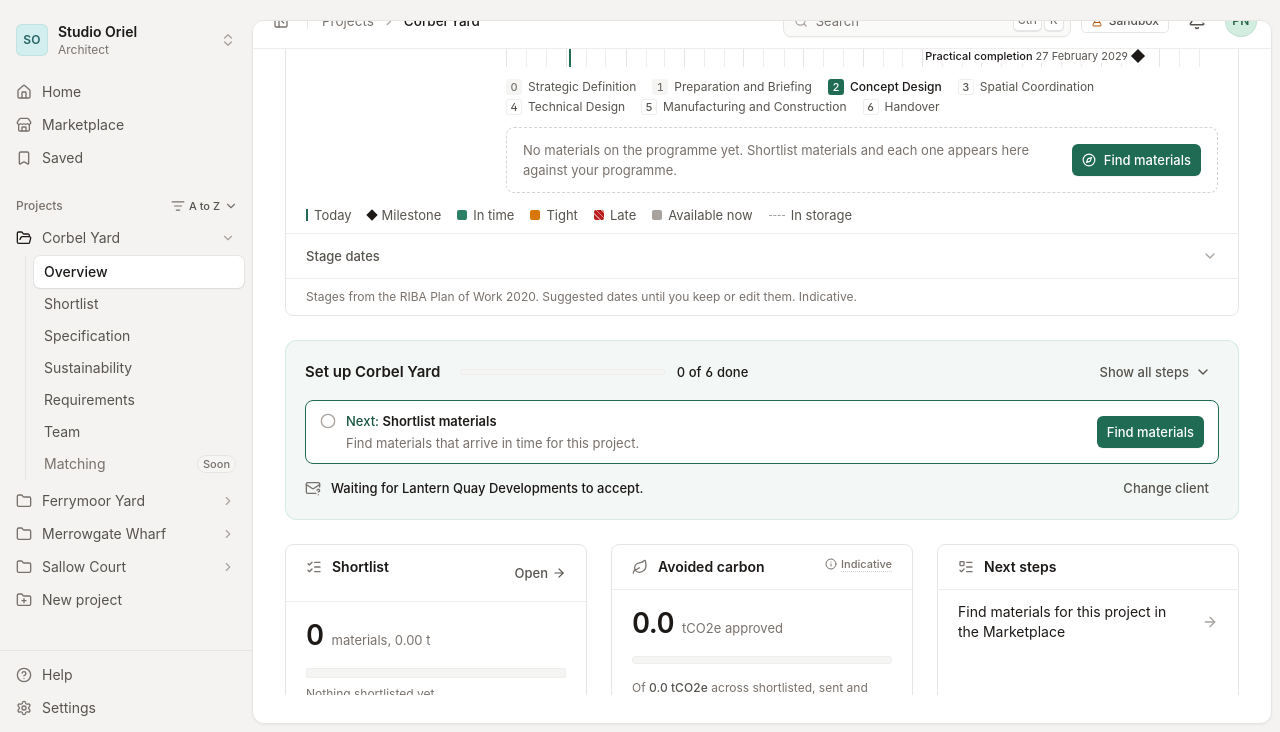
a new project › keeps the checklist compact, with the waiting client folded in, and opens every step on request
This screenshot has width=1280, height=732.
(page scrolled)
Expected: the element showing "Waiting for Lantern Quay Developments to accept." is shown, [305,480,644,496]
Press the mouse on the button "Show all steps" at (1155, 372), box [1092,350,1219,394]
Press the mouse on the button "Show all steps" at (1155, 372), box [1092,350,1219,394]
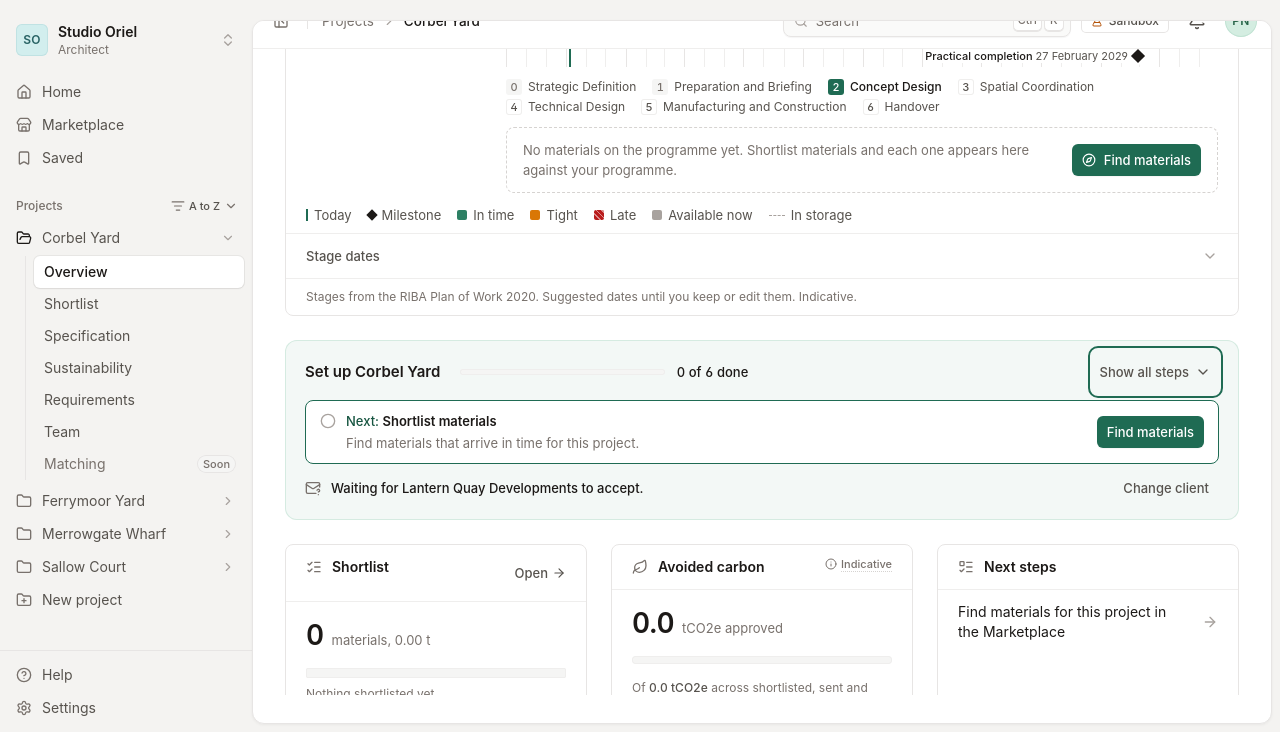
Click the button "Show all steps" at (1155, 372), box [1092,350,1219,394]
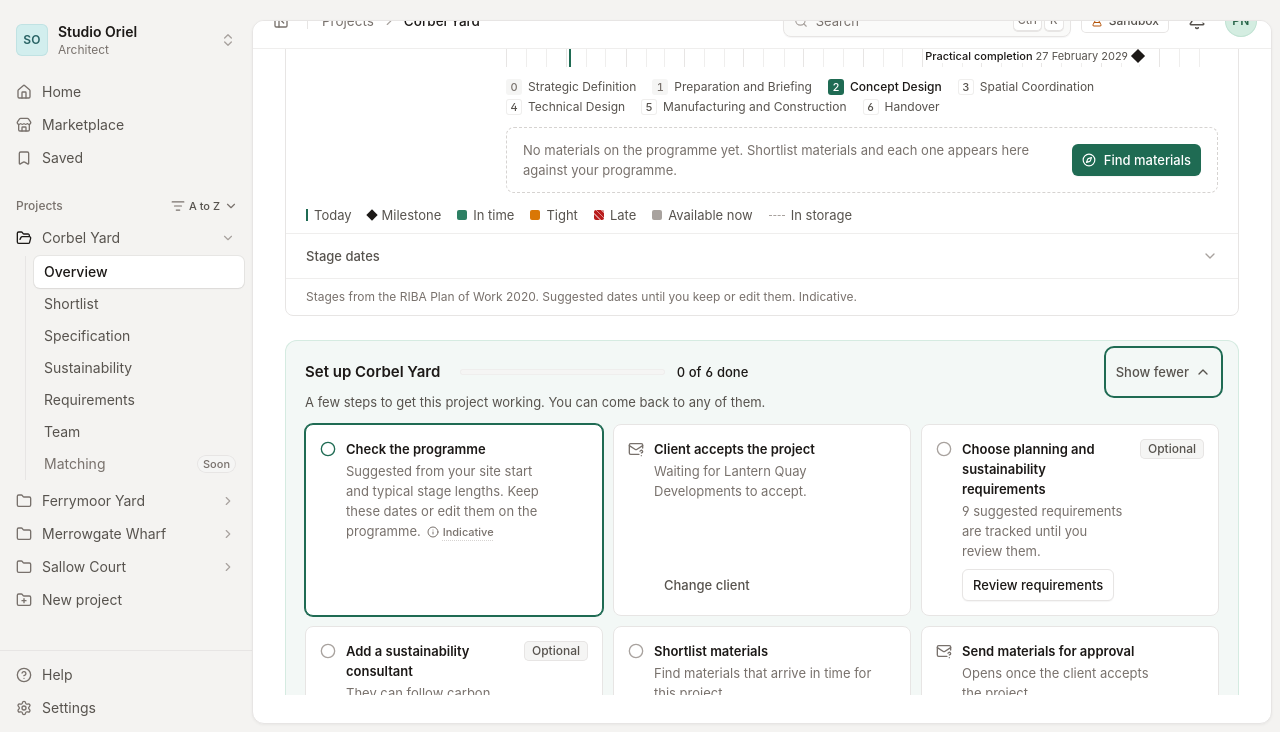
Now the button "Show fewer" is expanded, box [1108,350,1219,394]
